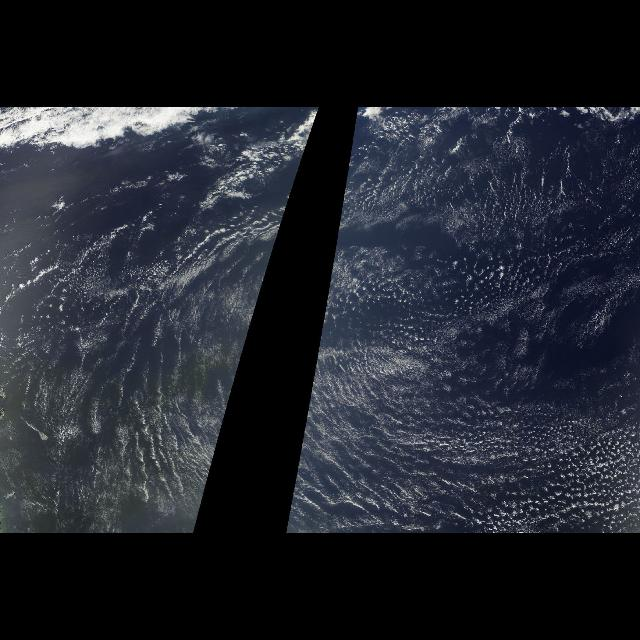Sugar: (285, 107, 639, 533), (12, 107, 320, 533)
